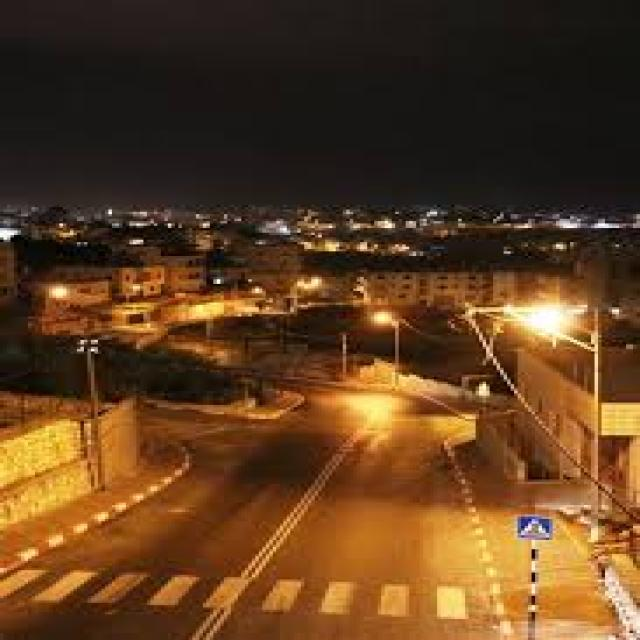Street Light: (367, 310, 399, 388)
